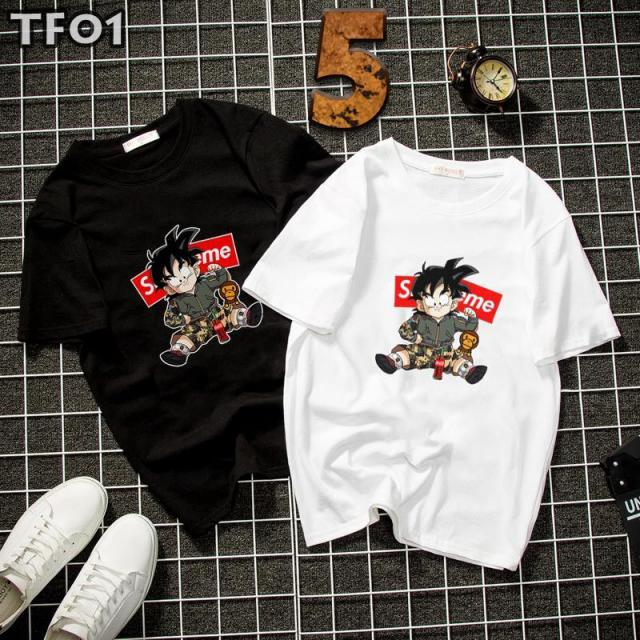Shirt: (241, 137, 618, 570), (10, 100, 345, 542)
